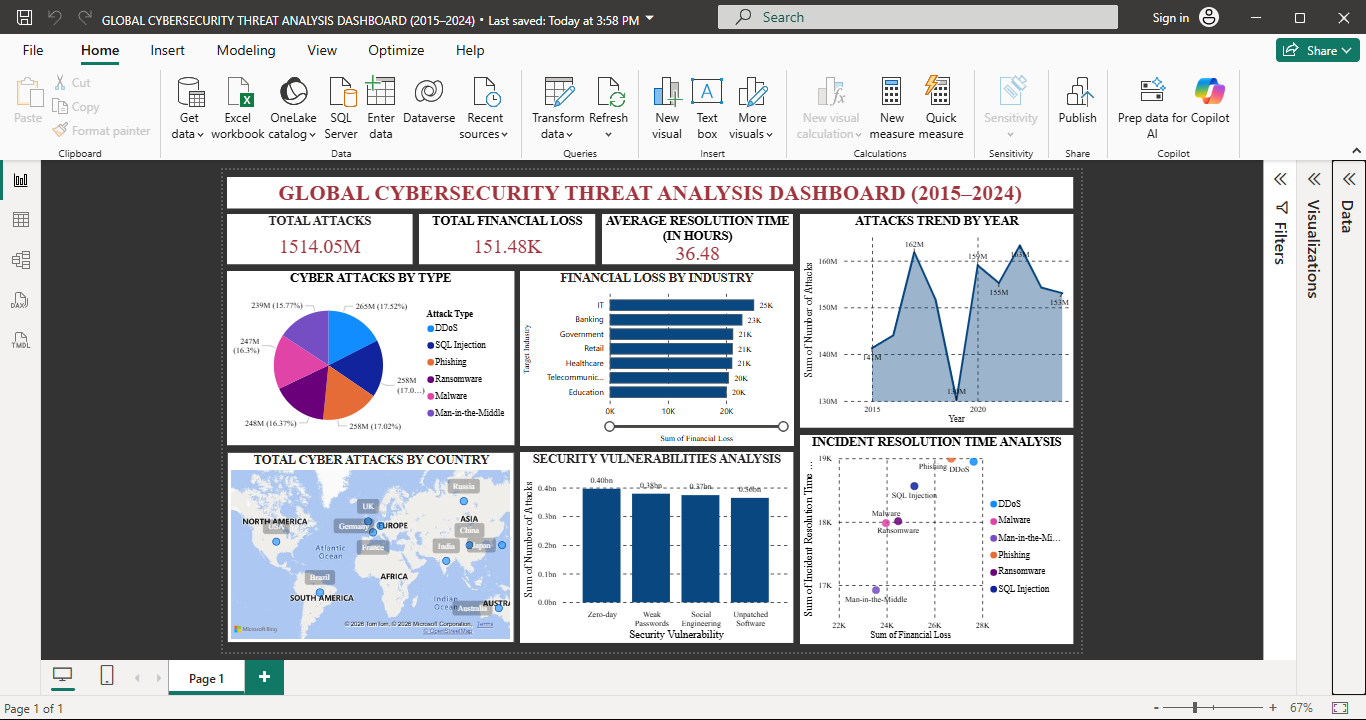

The page's visual inventory and layout, read from the dashboard file:
{"tool":"powerbi","page":{"name":"Page 1","canvas":[1280,720],"ordinal":0},"visuals":[{"type":"map","title":"TOTAL CYBER ATTACKS BY COUNTRY","fields":{"Size":["Sum(Global_Cybersecurity_Threats_20.Number of Attacks)"],"Category":["Global_Cybersecurity_Threats_20.Country"]},"box":[5.9,421.5,428.8,285.4],"z":0},{"type":"pieChart","title":"CYBER ATTACKS BY TYPE","fields":{"Category":["Global_Cybersecurity_Threats_20.Attack Type"],"Y":["Sum(Global_Cybersecurity_Threats_20.Number of Attacks)"]},"box":[5.9,150.7,428.8,260.5],"z":1000},{"type":"barChart","title":"FINANCIAL LOSS BY INDUSTRY","fields":{"Category":["Global_Cybersecurity_Threats_20.Target Industry"],"Y":["Sum(Global_Cybersecurity_Threats_20.Financial Loss)"]},"box":[443.4,150.7,408.3,260.5],"z":2000},{"type":"lineChart","title":"ATTACKS TREND BY YEAR","fields":{"Category":["Global_Cybersecurity_Threats_20.Year"],"Y":["Sum(Global_Cybersecurity_Threats_20.Number of Attacks)"]},"box":[860.5,65.9,408.3,319],"z":3000},{"type":"columnChart","title":"SECURITY VULNERABILITIES ANALYSIS","fields":{"Category":["Global_Cybersecurity_Threats_20.Security Vulnerability"],"Y":["Sum(Global_Cybersecurity_Threats_20.Number of Attacks)"]},"box":[443.4,421.5,408.3,285.4],"z":4000},{"type":"scatterChart","title":"INCIDENT RESOLUTION TIME ANALYSIS","fields":{"X":["Sum(Global_Cybersecurity_Threats_20.Financial Loss)"],"Y":["Sum(Global_Cybersecurity_Threats_20.Incident Resolution Time (in Hours))"],"Size":["Sum(Global_Cybersecurity_Threats_20.Number of Attacks)"],"Series":["Global_Cybersecurity_Threats_20.Attack Type"]},"box":[860.5,395.1,408.3,311.7],"z":5000},{"type":"card","title":"TOTAL ATTACKS","fields":{"Values":["Global_Cybersecurity_Threats_20.Total Attacks"]},"box":[5.9,65.9,276.6,74.6],"z":6000},{"type":"card","title":"TOTAL FINANCIAL LOSS","fields":{"Values":["Global_Cybersecurity_Threats_20.Total Financial Loss"]},"box":[292.7,65.9,263.4,74.6],"z":7000},{"type":"card","title":"AVERAGE RESOLUTION TIME (IN HOURS)","fields":{"Values":["Global_Cybersecurity_Threats_20.Avg Resolution Time"]},"box":[566.3,65.9,285.4,74.6],"z":8000},{"type":"textbox","box":[5.9,10.2,1262.9,46.8],"z":9000}]}

Visuals, with their boxes on the page's 1280x720 design canvas (x1, y1, x2, y2). These are canvas units, not pixel positions in the 1366x720 screenshot, which may show the page scaled, cropped or inside an application window:
"TOTAL CYBER ATTACKS BY COUNTRY" map: {"left": 6, "top": 422, "right": 435, "bottom": 707}
"CYBER ATTACKS BY TYPE" pieChart: {"left": 6, "top": 151, "right": 435, "bottom": 411}
"FINANCIAL LOSS BY INDUSTRY" barChart: {"left": 443, "top": 151, "right": 852, "bottom": 411}
"ATTACKS TREND BY YEAR" lineChart: {"left": 860, "top": 66, "right": 1269, "bottom": 385}
"SECURITY VULNERABILITIES ANALYSIS" columnChart: {"left": 443, "top": 422, "right": 852, "bottom": 707}
"INCIDENT RESOLUTION TIME ANALYSIS" scatterChart: {"left": 860, "top": 395, "right": 1269, "bottom": 707}
"TOTAL ATTACKS" card: {"left": 6, "top": 66, "right": 282, "bottom": 140}
"TOTAL FINANCIAL LOSS" card: {"left": 293, "top": 66, "right": 556, "bottom": 140}
"AVERAGE RESOLUTION TIME (IN HOURS)" card: {"left": 566, "top": 66, "right": 852, "bottom": 140}
textbox: {"left": 6, "top": 10, "right": 1269, "bottom": 57}
